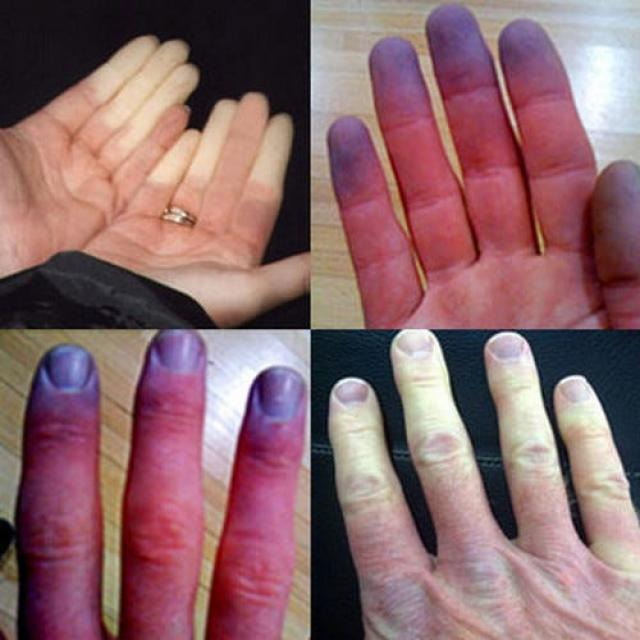raynauds: (83, 25, 296, 188), (546, 362, 640, 562), (378, 331, 488, 494), (319, 374, 412, 538), (472, 334, 564, 481), (362, 42, 452, 140), (326, 117, 394, 219), (488, 16, 574, 93), (416, 6, 500, 78)
